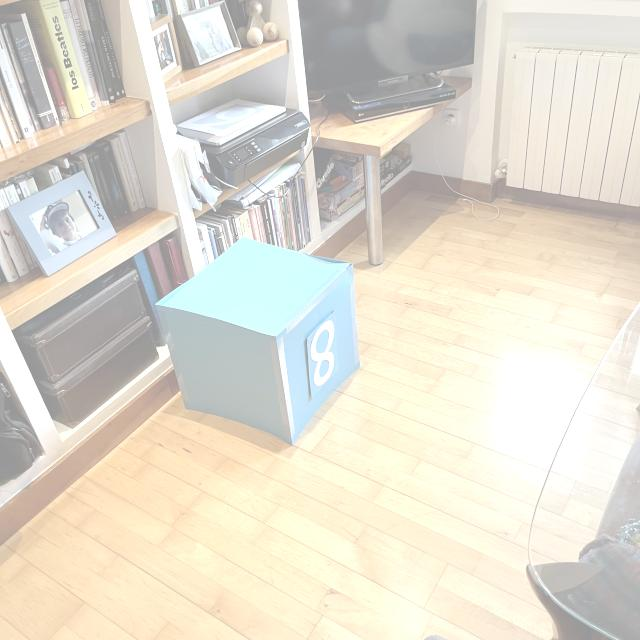box: (152, 234, 365, 446)
